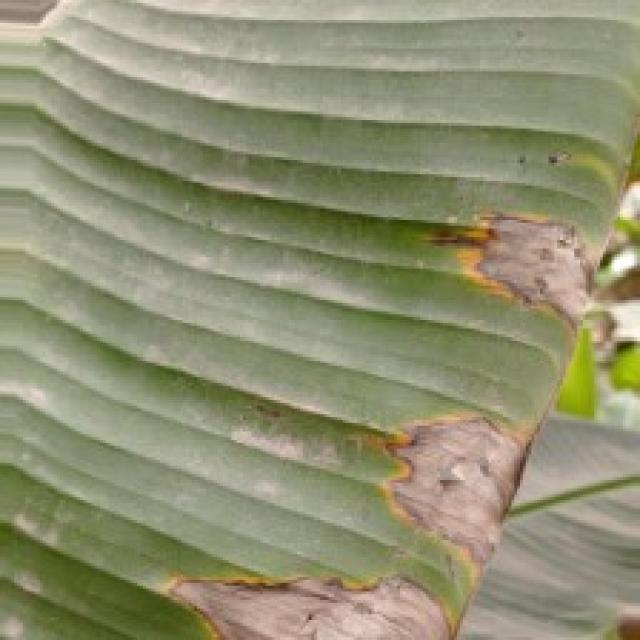Bacterial_spot: (360, 384, 558, 582), (400, 170, 610, 354), (115, 537, 472, 640)
